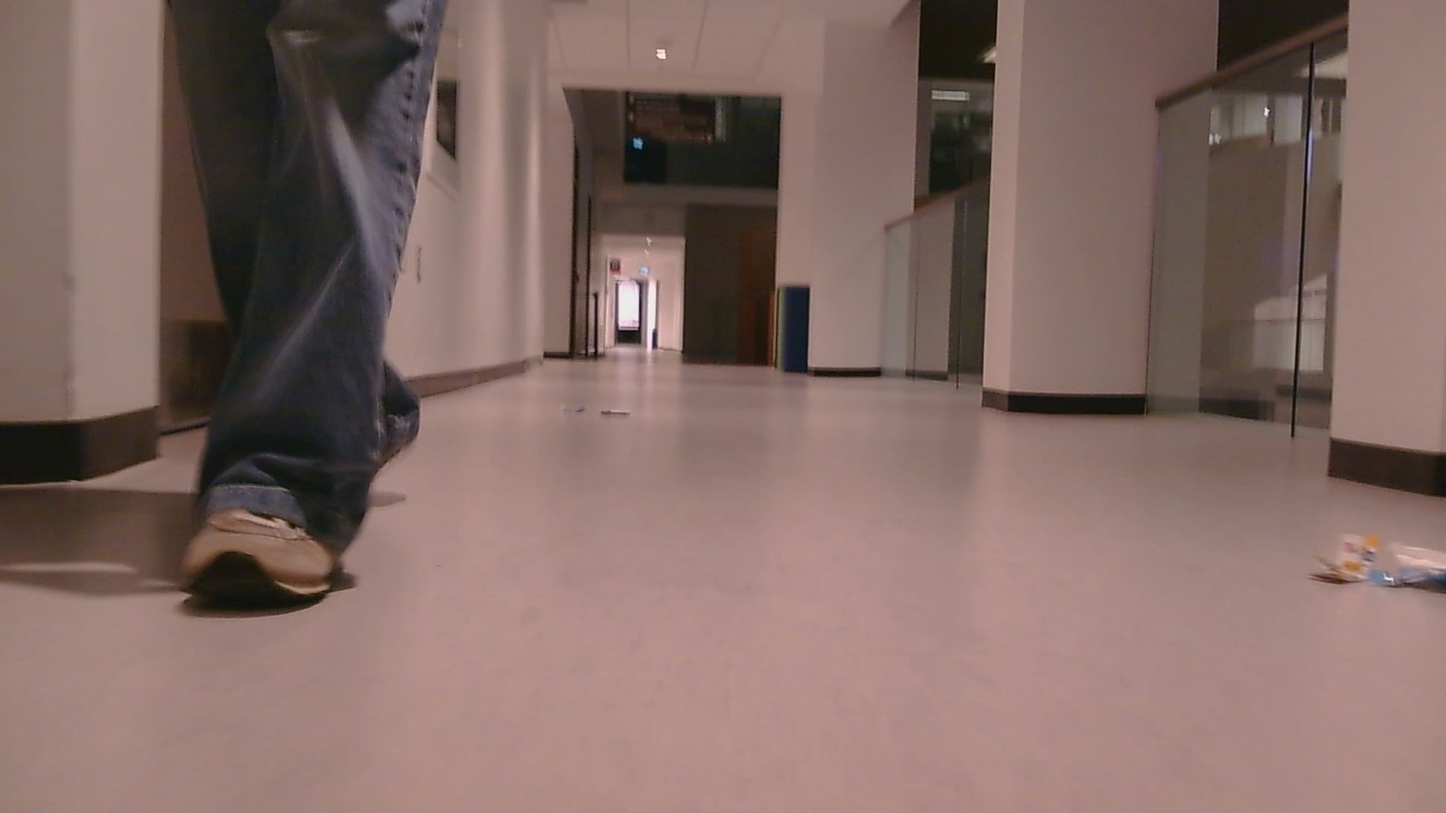carton: (1312, 516, 1446, 612), (603, 403, 641, 429), (566, 400, 596, 417)
